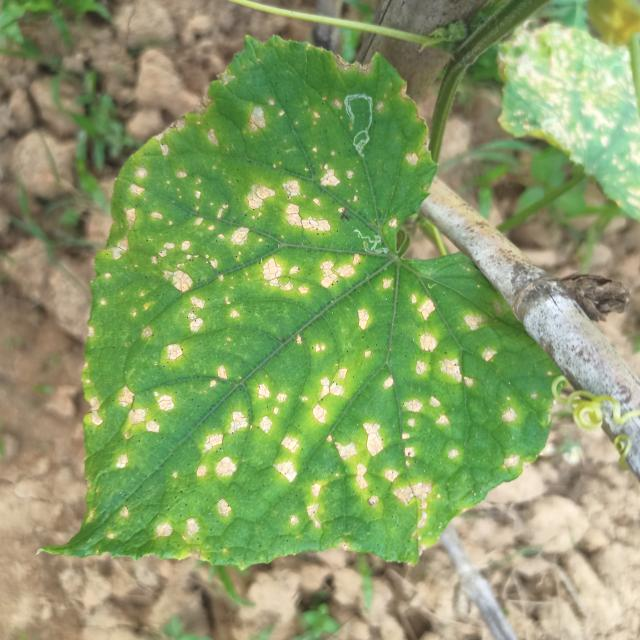disease_cucumber: (89, 62, 522, 560)
